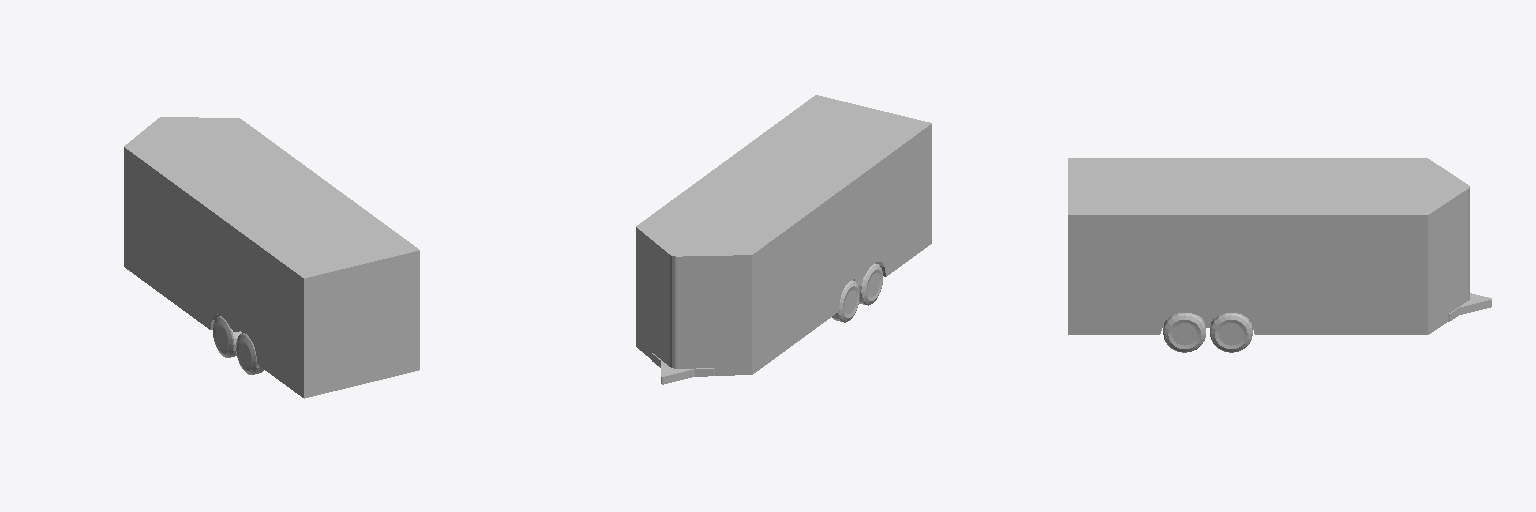
Rendered from Trailer_20ft.obj.
3 renders of one model, left to right at view 1: azimuth 30°, elevation 25°; view 2: azimuth 150°, elevation 25°; view 3: azimuth 270°, elevation 25°, orthographic.
Visible parts, largest first — view 1: trailer_20ft; view 2: trailer_20ft; view 3: trailer_20ft.
Boxes of the visible parts, x1,y1,x2,y2 form: trailer_20ft: [124, 117, 419, 398]; trailer_20ft: [636, 95, 931, 384]; trailer_20ft: [1068, 158, 1491, 352].
Size of the model in its own units: 203 by 227 by 631.